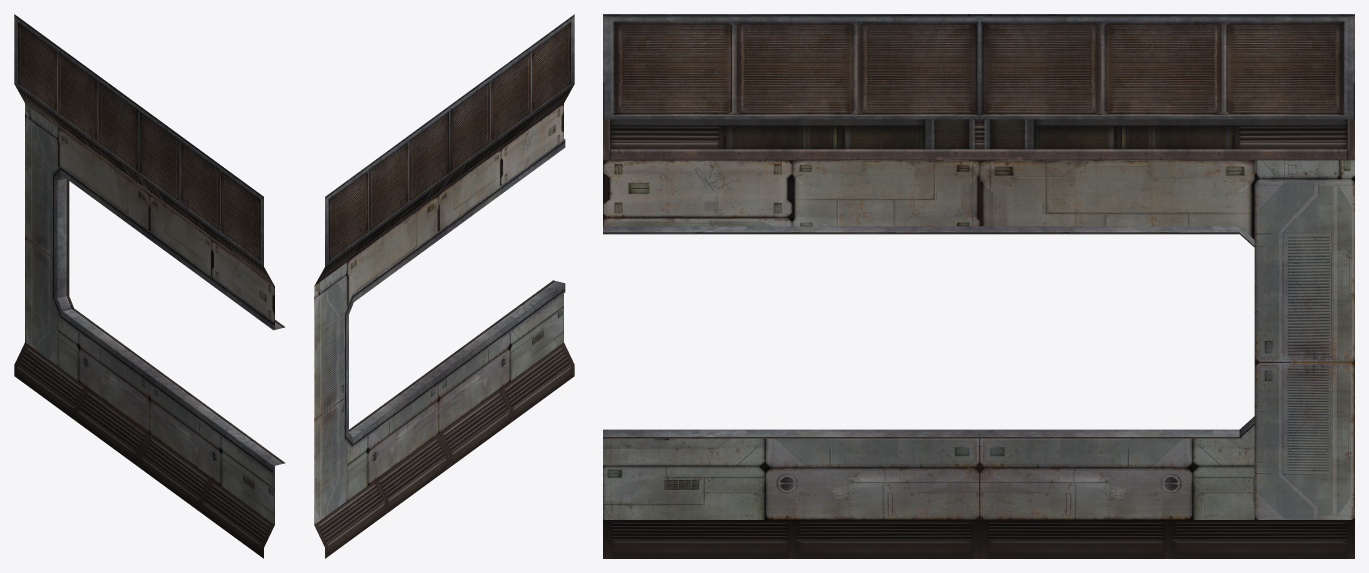
Rendered from Wall_High_new02.fbx.
The picture shows the model from 3 angles, left to right: view 1: azimuth 30°, elevation 25°; view 2: azimuth 150°, elevation 25°; view 3: azimuth 270°, elevation 25°; orthographic projection. The views are drawn at different scales.
Visible parts, largest first — view 1: Wall_High_new02; view 2: Wall_High_new02; view 3: Wall_High_new02.
Boxes of the visible parts, x1=… form: Wall_High_new02: x1=14, y1=14, x2=285, y2=558; Wall_High_new02: x1=314, y1=14, x2=574, y2=558; Wall_High_new02: x1=603, y1=14, x2=1354, y2=558.
Size of the model in its own units: 25 by 400 by 500.
